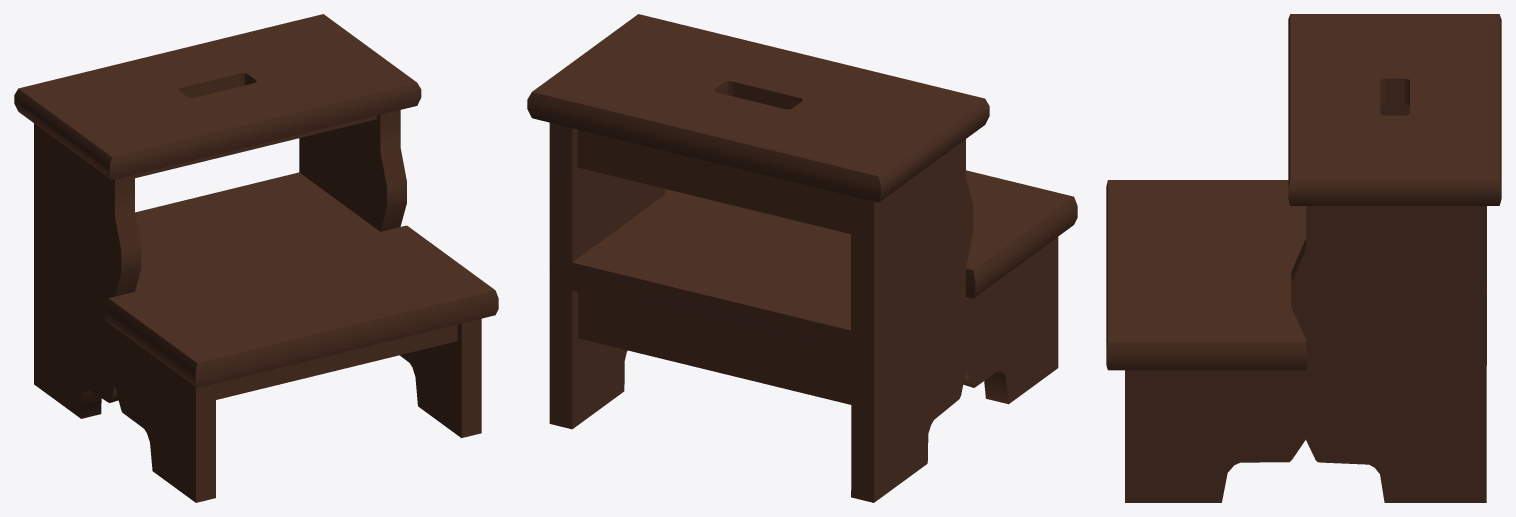
File: MiscStepStoolUV.fbx
3 views of the same model, side by side, from view 1: azimuth 30°, elevation 25°; view 2: azimuth 150°, elevation 25°; view 3: azimuth 270°, elevation 25° (orthographic). The views are drawn at different scales.
Parts seen in each view (by area): view 1: stepstool1; view 2: stepstool1; view 3: stepstool1.
Part boxes in pixels (box(x1,y1,x2,y2)): stepstool1: box(14, 14, 498, 502); stepstool1: box(527, 14, 1077, 502); stepstool1: box(1106, 14, 1501, 502).
Bounding box in the file's own units: 66.19 × 59.74 × 65.27.
